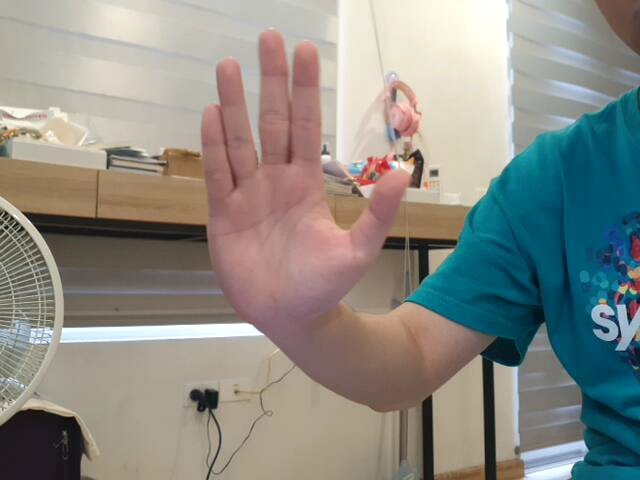LiveLong: (196, 26, 413, 343)
